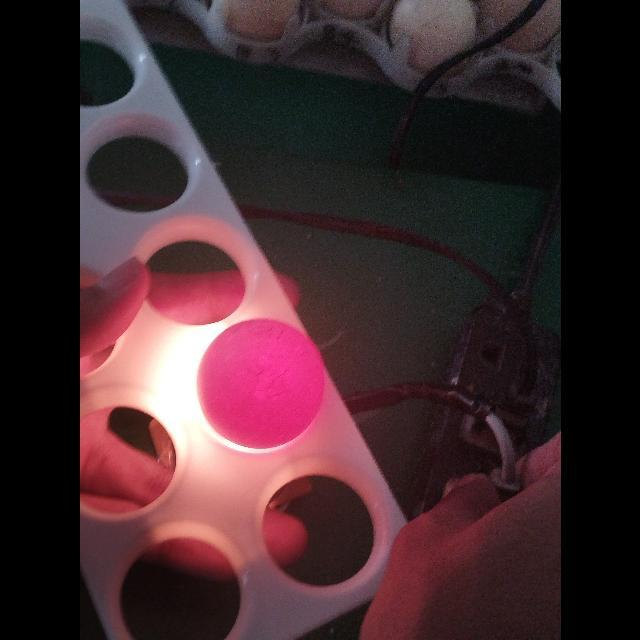Infertile: (196, 316, 326, 449)
